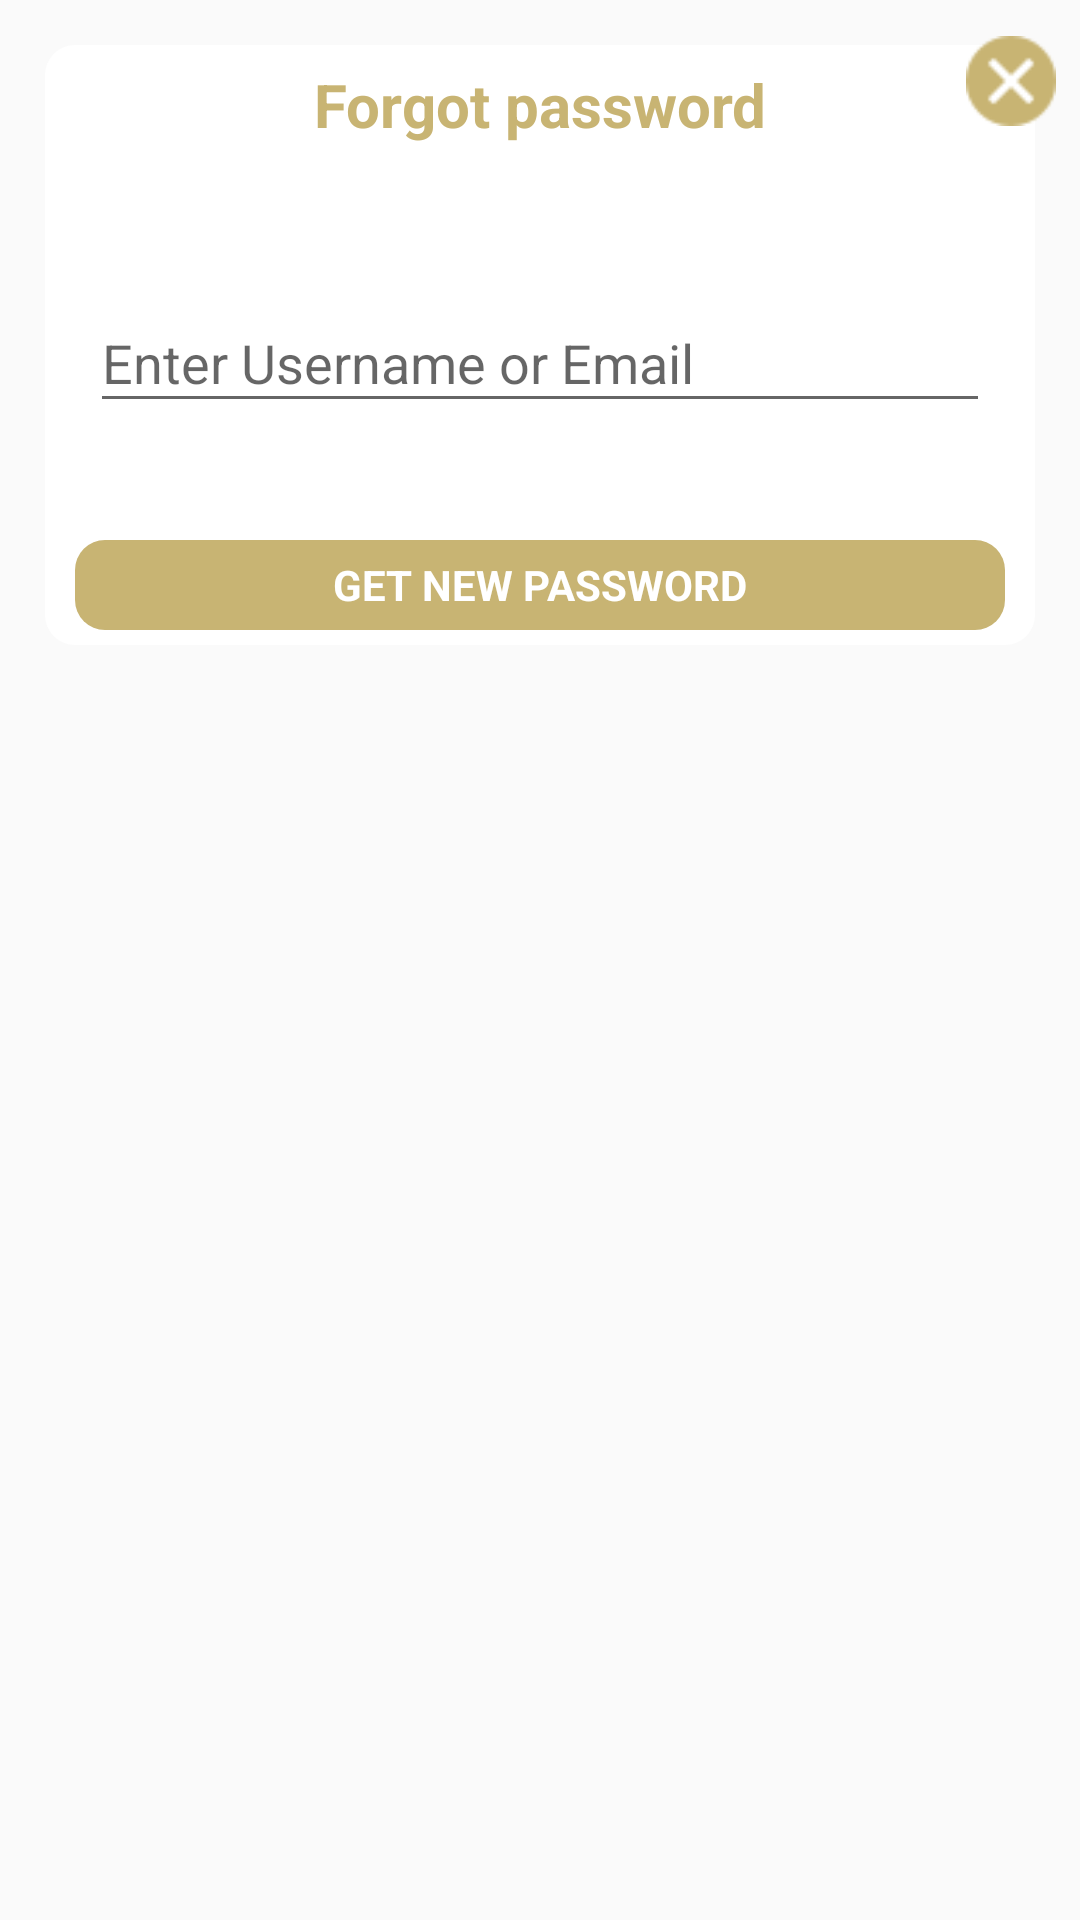

Screen size 1080 × 1920. Icon name, then its box in pixels as (x1, y1, x2, y2):
cancel: (966, 36, 1056, 126)
